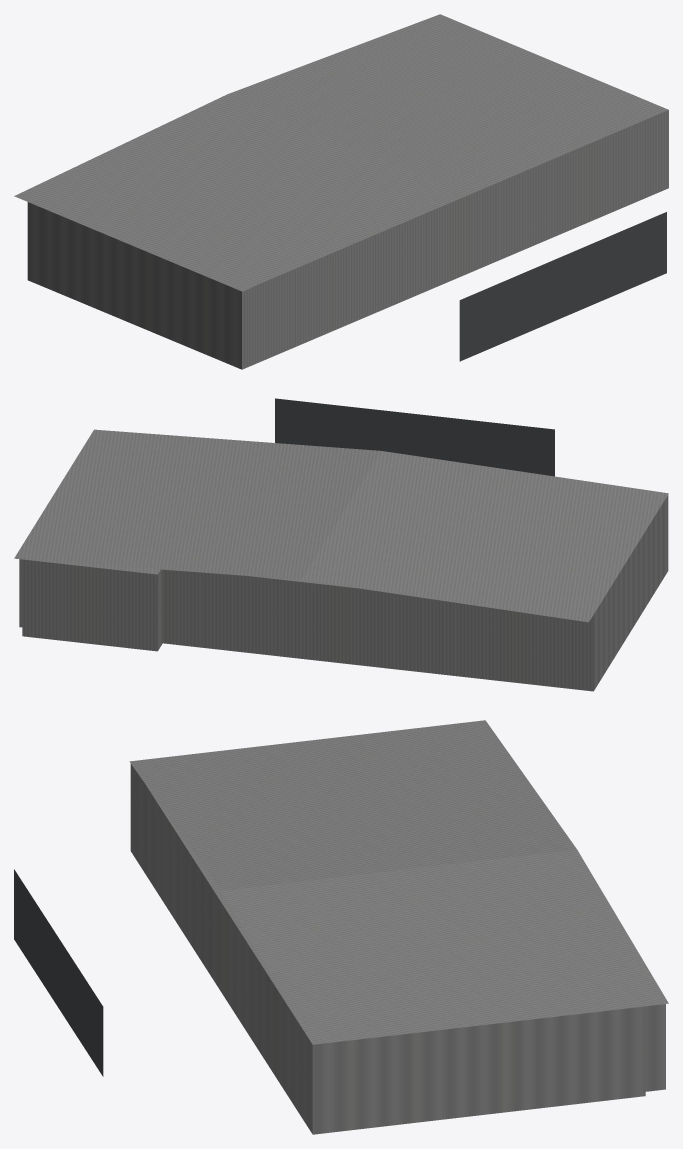
Rendered from sbgr_hangar_mro.glb.
3 renders of one model, top to bottom at view 1: azimuth 30°, elevation 25°; view 2: azimuth 150°, elevation 25°; view 3: azimuth 270°, elevation 25°, orthographic. The views are drawn at different scales.
Parts seen in each view (by area): view 1: sbgr_hangar_mro; view 2: sbgr_hangar_mro; view 3: sbgr_hangar_mro.
Boxes of the visible parts, bbox=[...] form: sbgr_hangar_mro: bbox=[14, 14, 668, 369]; sbgr_hangar_mro: bbox=[14, 398, 668, 691]; sbgr_hangar_mro: bbox=[14, 720, 668, 1134].
Size of the model in its own units: 197 by 29 by 168.
2 materials, 1 textured.
